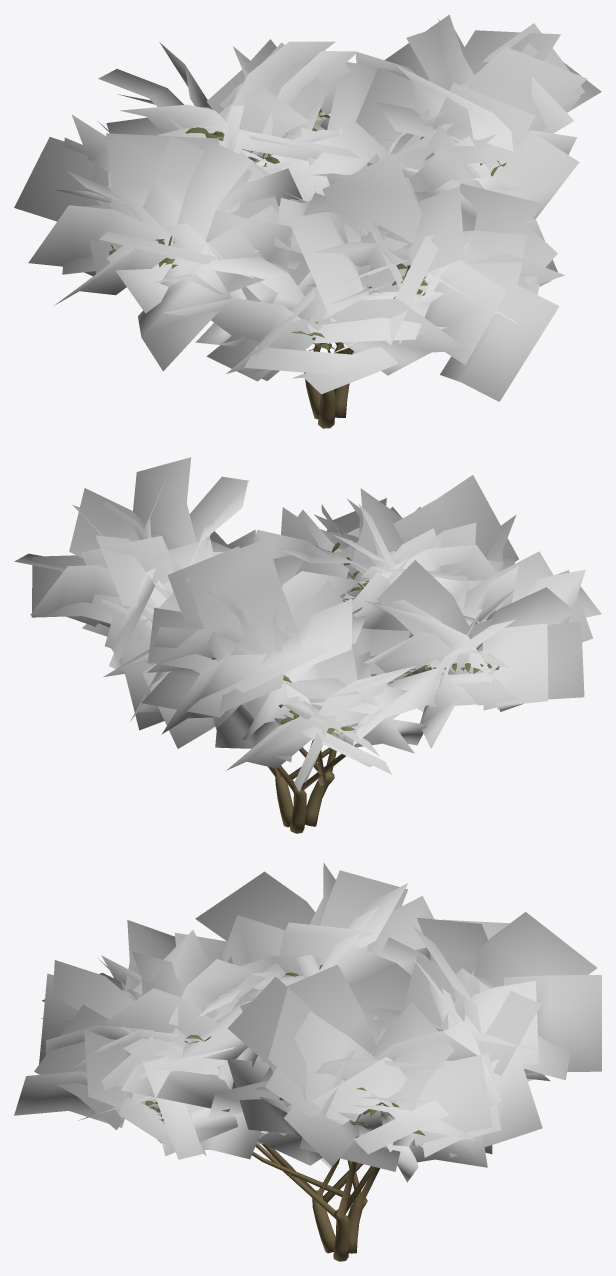
File: V7_Ciste_0_Niveau0.fbx
3 renders of one model, top to bottom at view 1: azimuth 30°, elevation 25°; view 2: azimuth 150°, elevation 25°; view 3: azimuth 270°, elevation 25°, orthographic. The views are drawn at different scales.
Visible parts, largest first — view 1: V7_Ciste_0; view 2: V7_Ciste_0; view 3: V7_Ciste_0.
Part boxes in pixels (x1,y1,x2,y2): V7_Ciste_0: (14, 14, 601, 428); V7_Ciste_0: (14, 457, 601, 833); V7_Ciste_0: (14, 863, 601, 1261).
Size of the model in its own units: 189 by 110 by 175.
